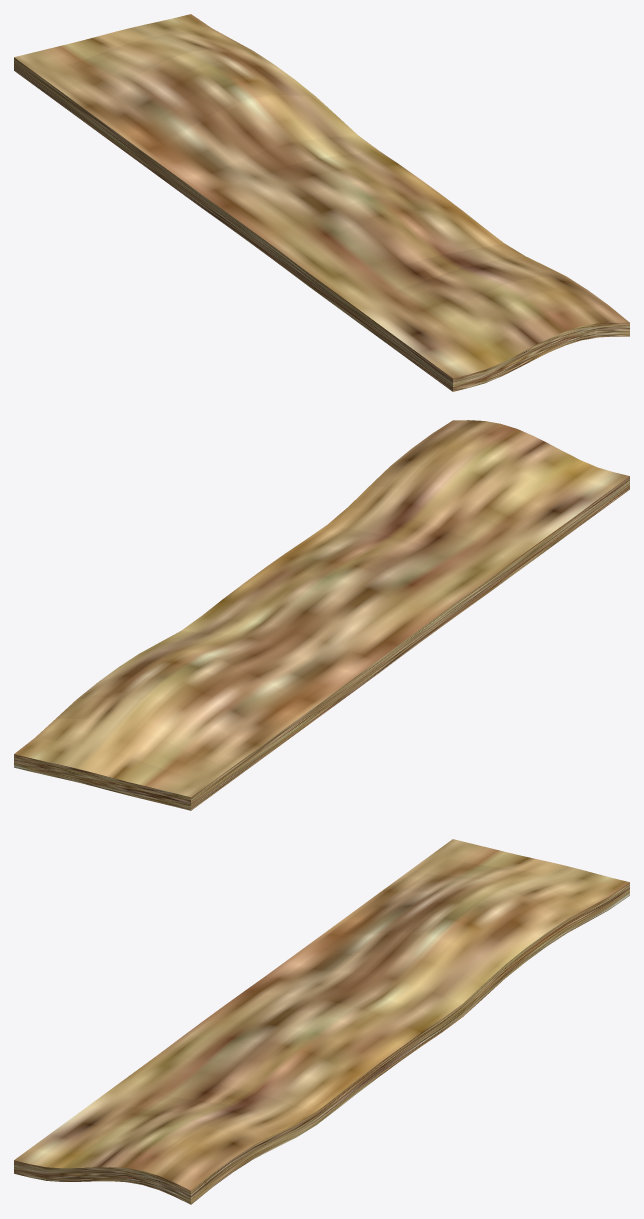
File: DistantPlains.fbx
3 views of the same model, one above another, from view 1: azimuth 30°, elevation 25°; view 2: azimuth 150°, elevation 25°; view 3: azimuth 330°, elevation 25° (orthographic).
Parts seen in each view (by area): view 1: Cube.013; view 2: Cube.013; view 3: Cube.013.
Part boxes in pixels (x1,y1,x2,y2): Cube.013: [14, 14, 629, 391]; Cube.013: [14, 420, 629, 810]; Cube.013: [14, 839, 629, 1204].
Size of the model in its own units: 2748 by 595 by 11794.
1 material, 1 textured.
